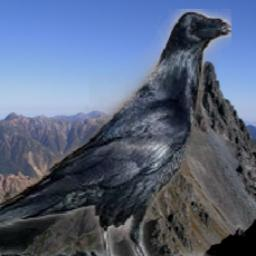Crow: (0, 9, 233, 256)
